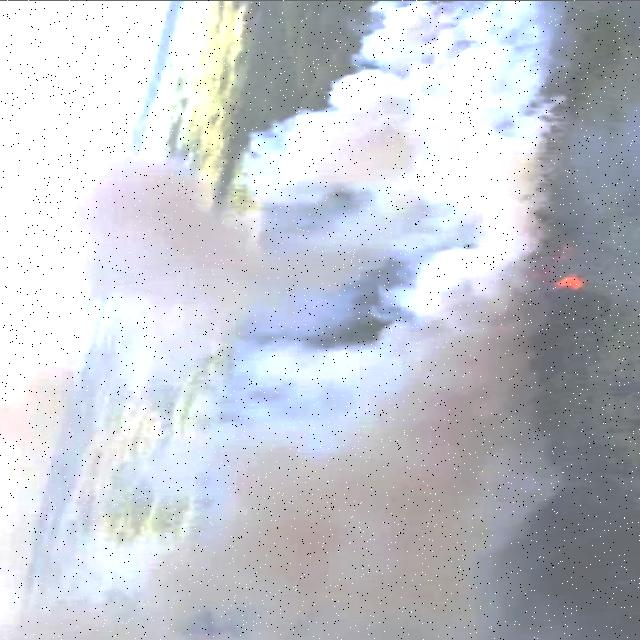api: (545, 271, 589, 297)
asap: (1, 2, 589, 640)
